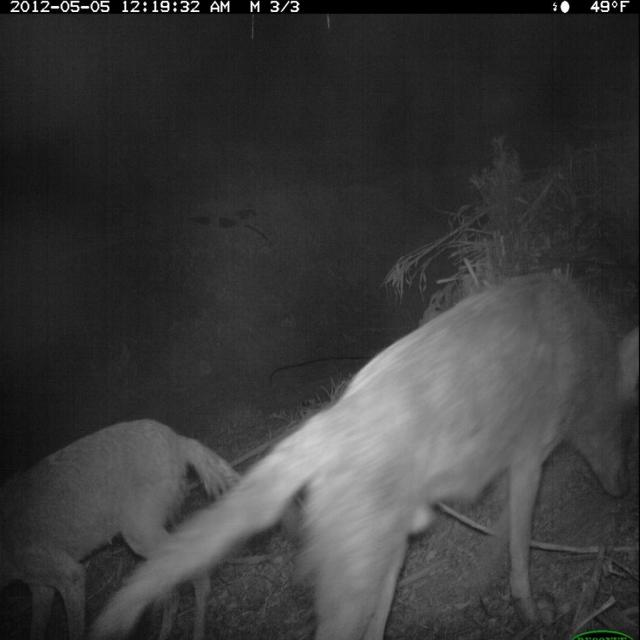coyote: (82, 262, 637, 640), (1, 413, 243, 640)
